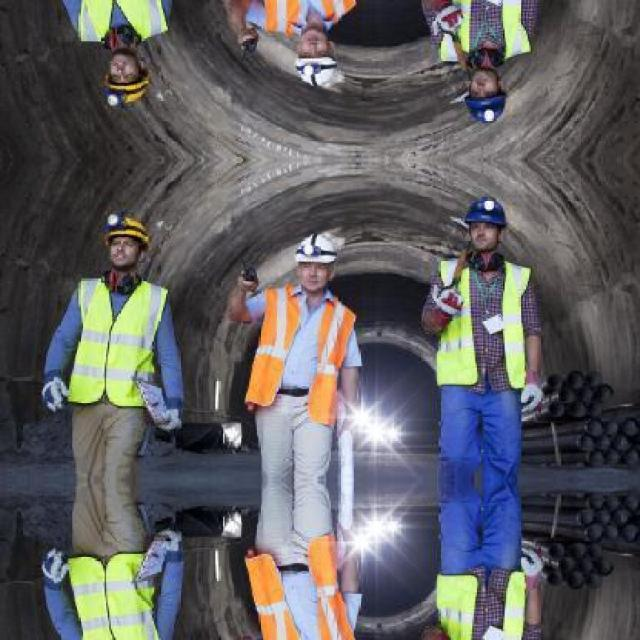helmet: (458, 191, 514, 234), (102, 210, 149, 258), (297, 234, 337, 266)
